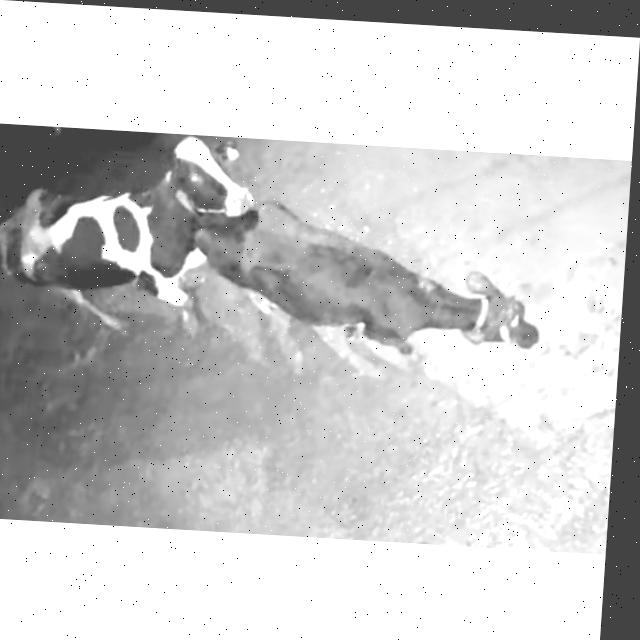propping: (138, 133, 294, 290)
